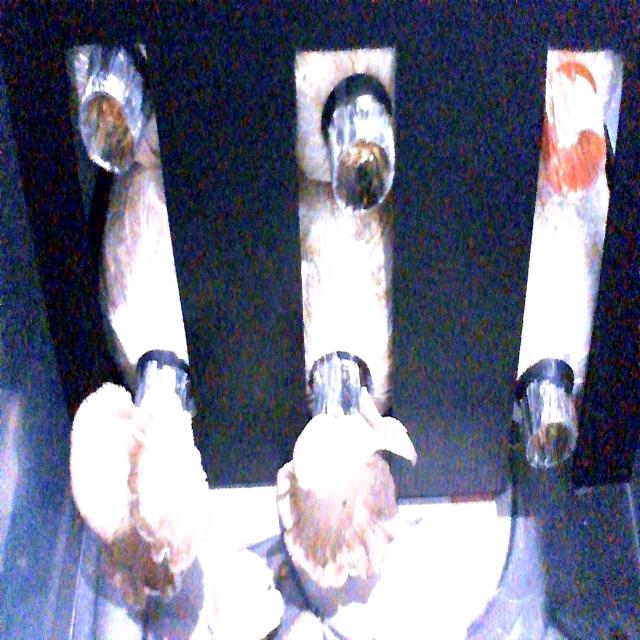big: (62, 372, 216, 604), (272, 396, 428, 565)
nfound: (64, 70, 160, 168), (334, 110, 413, 225), (555, 106, 611, 230), (520, 400, 588, 486)
